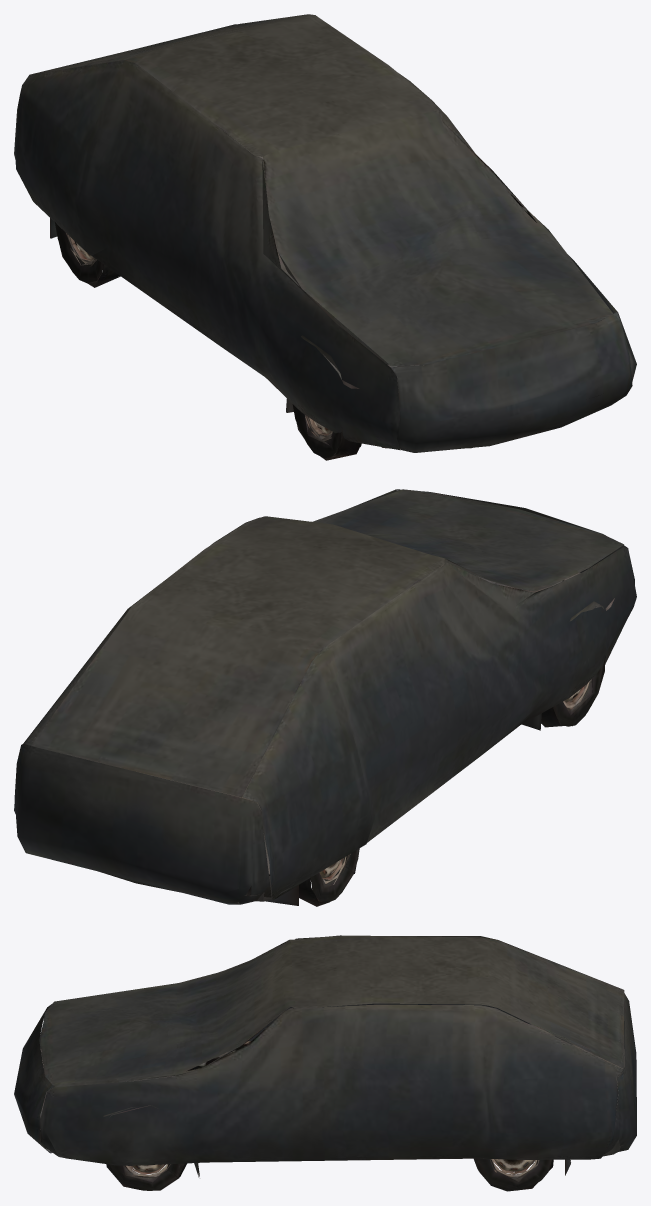
File: covered_car.glb
The picture shows the model from 3 angles, top to bottom: view 1: azimuth 30°, elevation 25°; view 2: azimuth 150°, elevation 25°; view 3: azimuth 270°, elevation 25°; orthographic projection. The views are drawn at different scales.
Parts seen in each view (by area): view 1: covered_car_wheel_01; view 2: covered_car_wheel_01; view 3: covered_car_wheel_01.
Boxes of the visible parts, bbox=[...] form: covered_car_wheel_01: bbox=[14, 14, 636, 460]; covered_car_wheel_01: bbox=[14, 489, 636, 906]; covered_car_wheel_01: bbox=[14, 935, 636, 1191].
Bounding box in the file's own units: 1.8 × 1.42 × 4.38.
2 materials, 2 textured.
